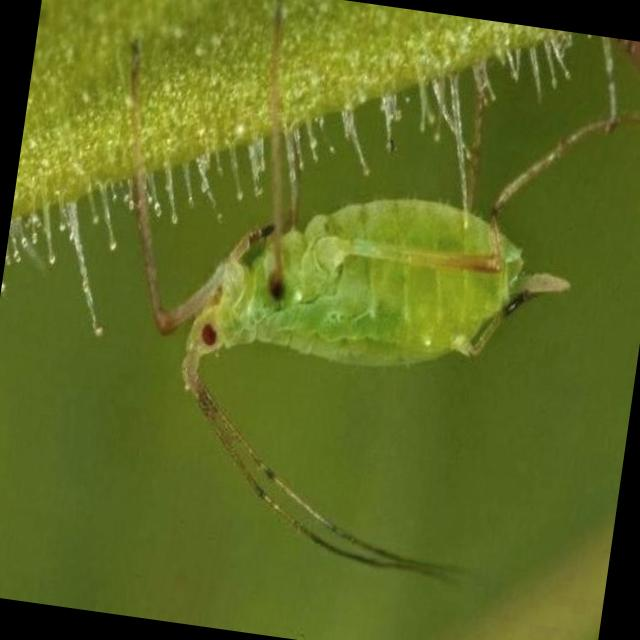aphid: (77, 4, 639, 597)
